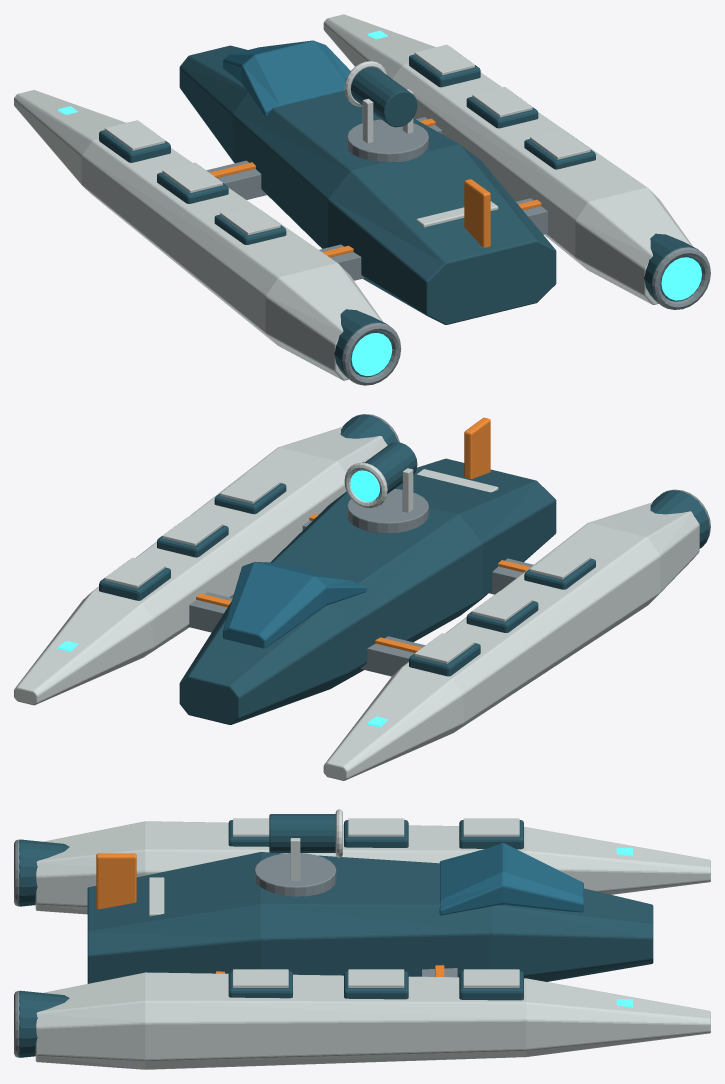
File: hodei_surveyor.glb
3 renders of one model, top to bottom at view 1: azimuth 30°, elevation 25°; view 2: azimuth 150°, elevation 25°; view 3: azimuth 270°, elevation 25°, orthographic.
Visible parts, largest first — view 1: hodei_surveyor_mesh, outrigger_left_mesh, outrigger_right_mesh, observatory_turntable_mesh; view 2: hodei_surveyor_mesh, outrigger_left_mesh, outrigger_right_mesh, observatory_turntable_mesh; view 3: hodei_surveyor_mesh, outrigger_right_mesh, outrigger_left_mesh, observatory_turntable_mesh.
Part boxes in pixels (x1,y1,x2,y2): hodei_surveyor_mesh: (179, 40, 556, 324); outrigger_left_mesh: (14, 90, 401, 385); outrigger_right_mesh: (323, 14, 710, 309); observatory_turntable_mesh: (344, 61, 428, 161); hodei_surveyor_mesh: (179, 417, 556, 724); outrigger_left_mesh: (323, 489, 710, 780); outrigger_right_mesh: (14, 414, 399, 705); observatory_turntable_mesh: (344, 442, 428, 533); hodei_surveyor_mesh: (87, 843, 653, 983); outrigger_right_mesh: (14, 969, 710, 1069); outrigger_left_mesh: (14, 818, 710, 914); observatory_turntable_mesh: (254, 809, 342, 896).
Size of the model in its own units: 7.9 by 3.22 by 12.08.
